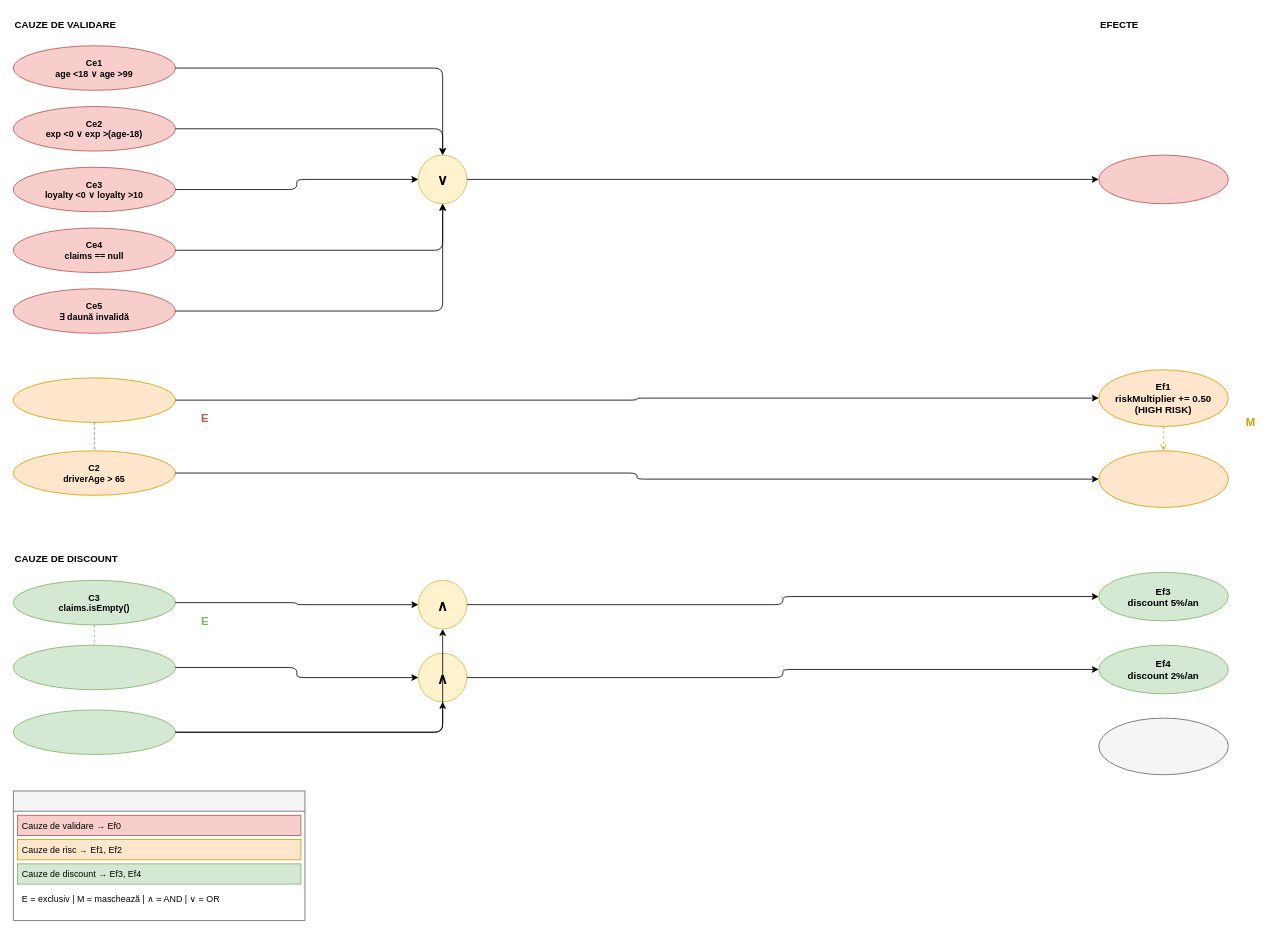
This 1282x934 diagram has some shape labels left out. The box of each missing label's shape, as (x1, y1, x2, y2) in pixels:
C1 (age≤25 && exp≤2) || size≥3: (13, 377, 175, 422)
C4 size==1 && yearsAgo>2: (13, 644, 175, 690)
C7 loyaltyYears ≥ 1: (13, 709, 175, 755)
Ef0 aruncă excepție: (1098, 154, 1228, 204)
Ef2 riskMultiplier += 0.20 (SENIOR): (1098, 450, 1228, 507)
Ef5 fără discount (¬Ef3 ∧ ¬Ef4): (1098, 717, 1228, 775)
Legendă: (13, 790, 305, 921)
